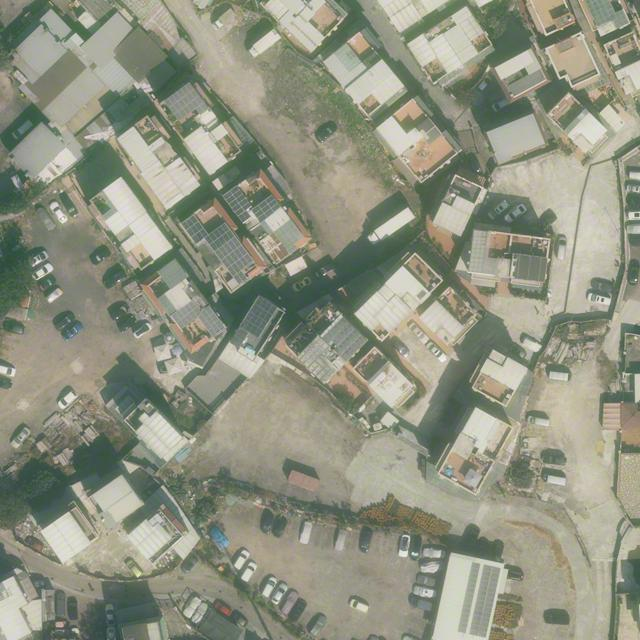panel: (204, 222, 254, 277), (469, 564, 502, 639), (321, 316, 369, 362), (456, 562, 480, 634), (240, 295, 278, 338), (165, 82, 205, 122), (223, 185, 253, 217), (170, 301, 202, 329), (251, 195, 281, 223), (181, 214, 208, 245), (198, 306, 224, 337), (230, 326, 249, 348), (233, 270, 249, 286), (238, 211, 251, 224), (196, 104, 208, 115)
